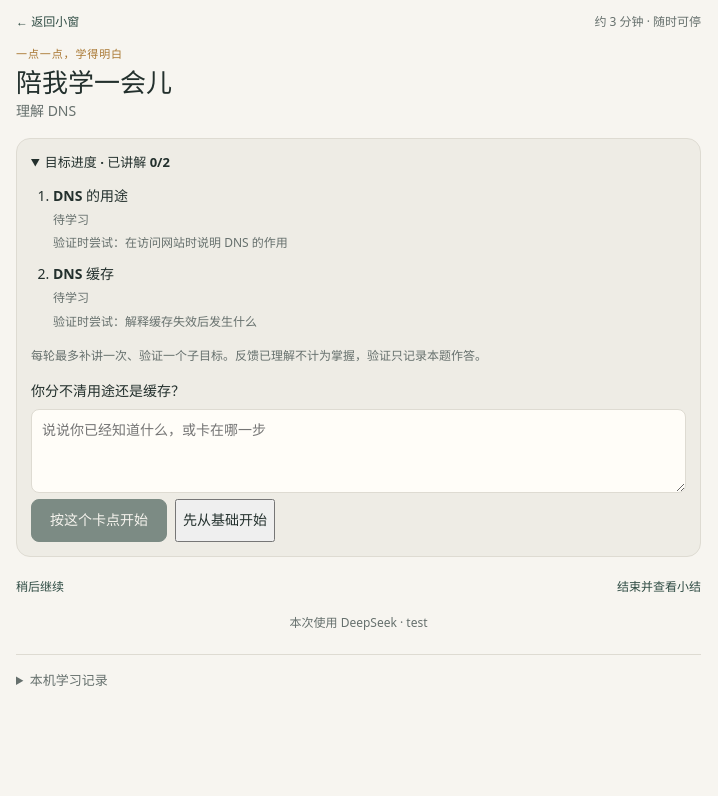
Scenario: keeps a failed checkin draft and submits it once before continuing
Type "缓存这一步" into the text box labelled "你分不清用途还是缓存？".
click(358, 452); type("缓存这一步")  # box [31,410,686,494]
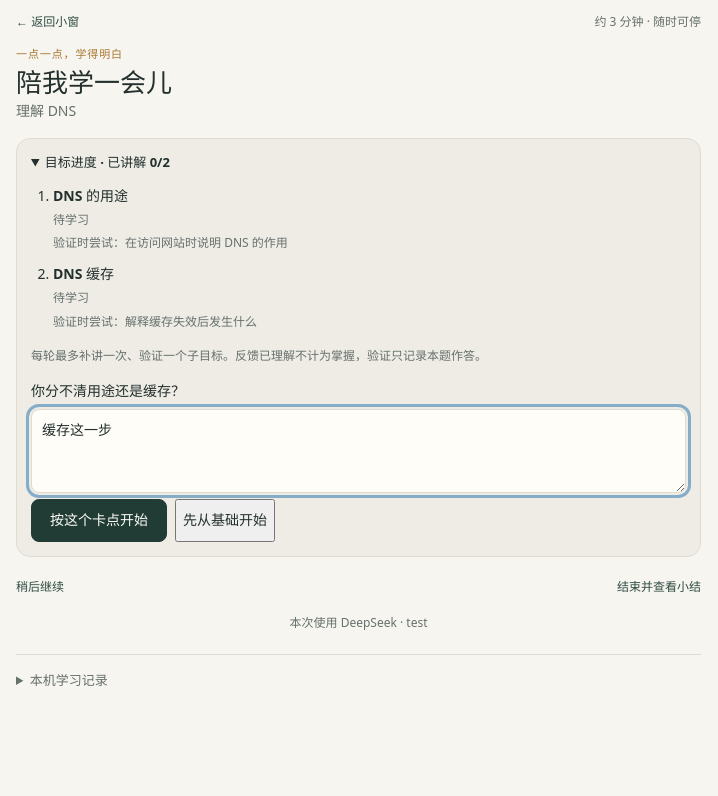
Click the button "按这个卡点开始".
click(99, 520)  # box [31,499,167,542]
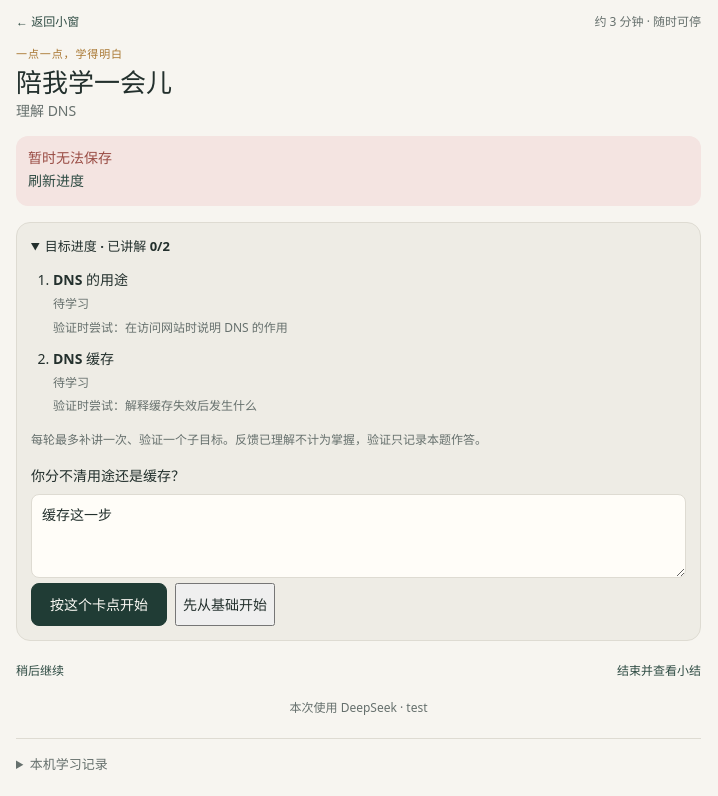
expect the message "暂时无法保存 刷新进度" is shown: met, box [16,136,701,206]
Double-click the button "按这个卡点开始".
double_click(99, 605)  # box [31,583,167,626]
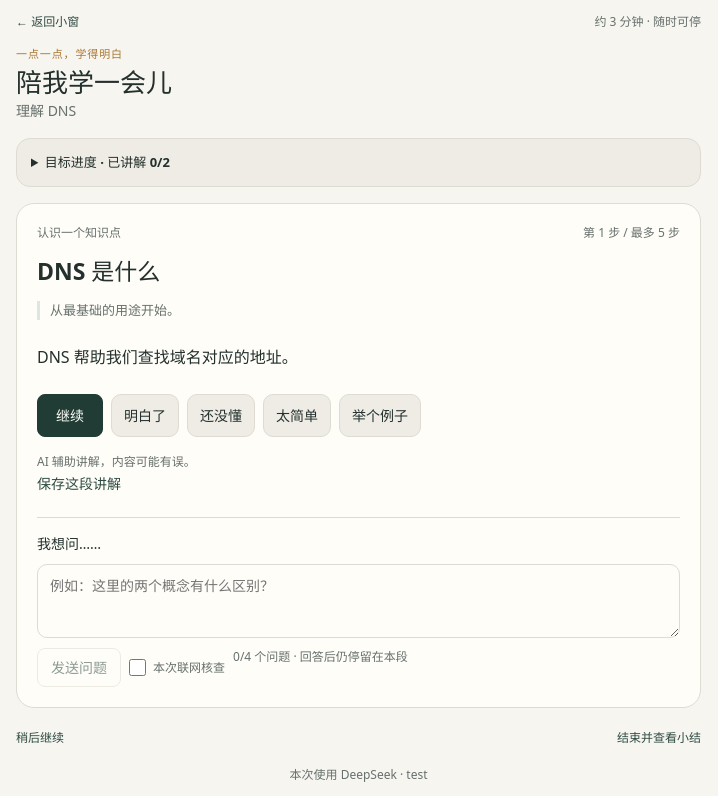
expect the heading "DNS 是什么" is shown: met, box [37,255,160,287]
